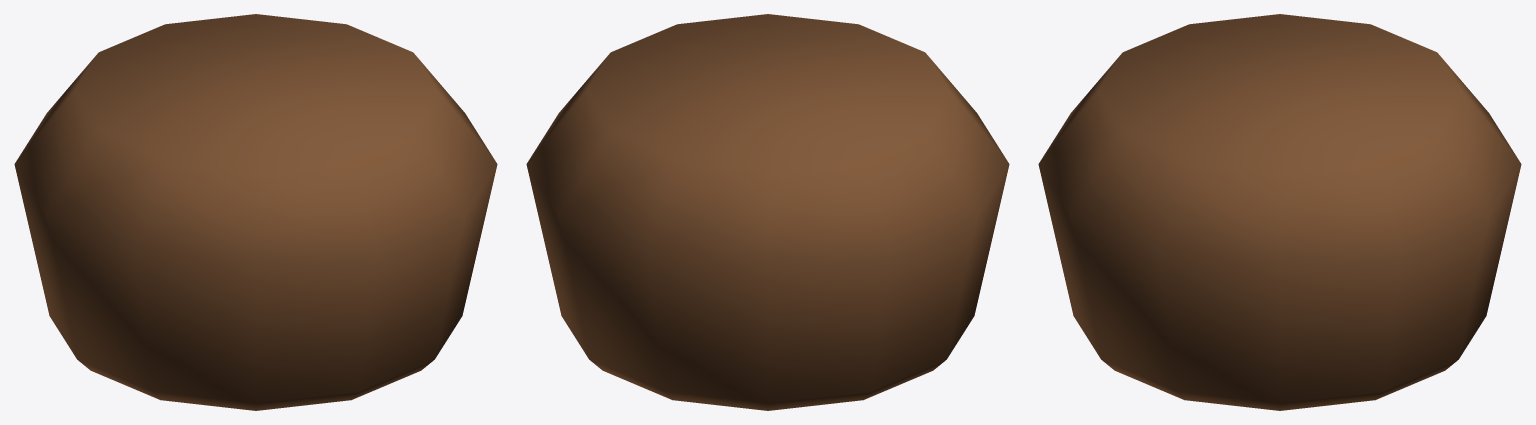
File: PotionBottleCork2.fbx
3 views of the same model, side by side, from view 1: azimuth 30°, elevation 25°; view 2: azimuth 150°, elevation 25°; view 3: azimuth 270°, elevation 25° (orthographic).
Parts seen in each view (by area): view 1: PotionBottleCork2; view 2: PotionBottleCork2; view 3: PotionBottleCork2.
Part boxes in pixels (left/top/right/bottom): PotionBottleCork2: left=14, top=14, right=497, bottom=410; PotionBottleCork2: left=526, top=14, right=1009, bottom=410; PotionBottleCork2: left=1038, top=14, right=1521, bottom=410.
Size of the model in its own units: 3.58 by 1.96 by 3.58.
